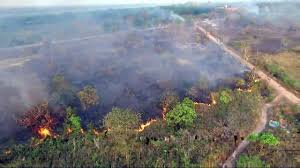fire: (131, 118, 157, 133), (38, 126, 52, 136)
smoke: (0, 1, 243, 118)
